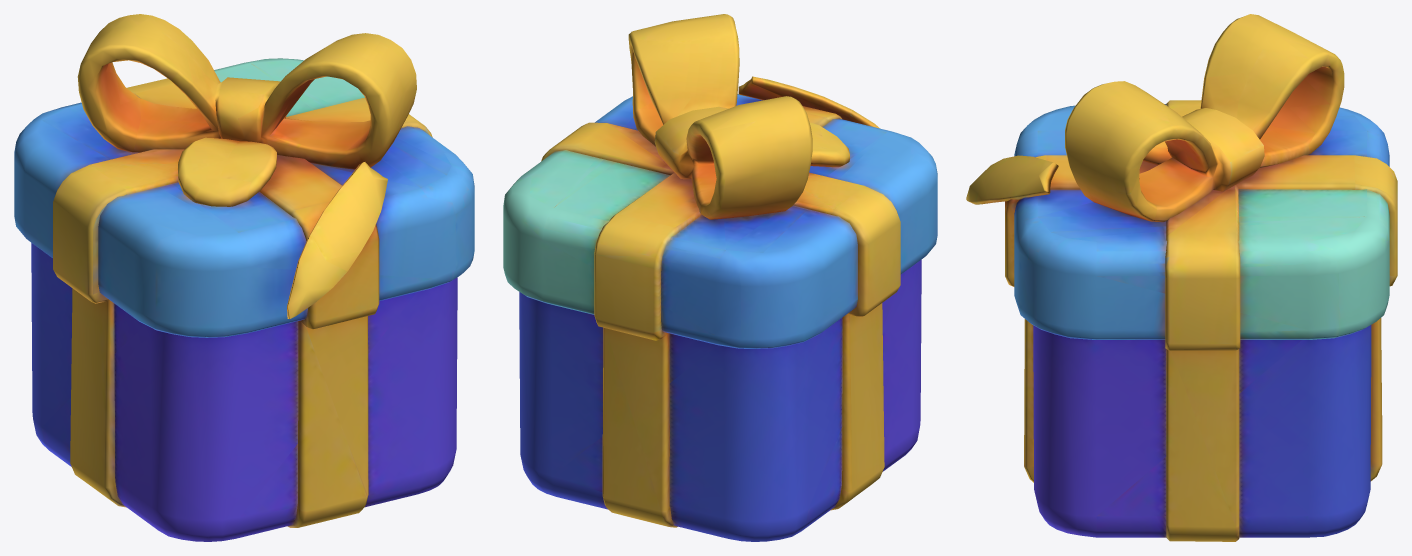
Rendered from host-gift.glb.
The picture shows the model from 3 angles, left to right: view 1: azimuth 30°, elevation 25°; view 2: azimuth 150°, elevation 25°; view 3: azimuth 270°, elevation 25°; orthographic projection. The views are drawn at different scales.
Parts seen in each view (by area): view 1: tripo_node_832b7442-5be4-4051-af18-035566c295de; view 2: tripo_node_832b7442-5be4-4051-af18-035566c295de; view 3: tripo_node_832b7442-5be4-4051-af18-035566c295de.
Boxes of the visible parts, x1,y1,x2,y2 form: tripo_node_832b7442-5be4-4051-af18-035566c295de: (14,14,474,541); tripo_node_832b7442-5be4-4051-af18-035566c295de: (503,14,937,541); tripo_node_832b7442-5be4-4051-af18-035566c295de: (966,14,1397,541).
Bounding box in the file's own units: 0.838 × 0.998 × 0.9316.
1 material, 1 textured.
